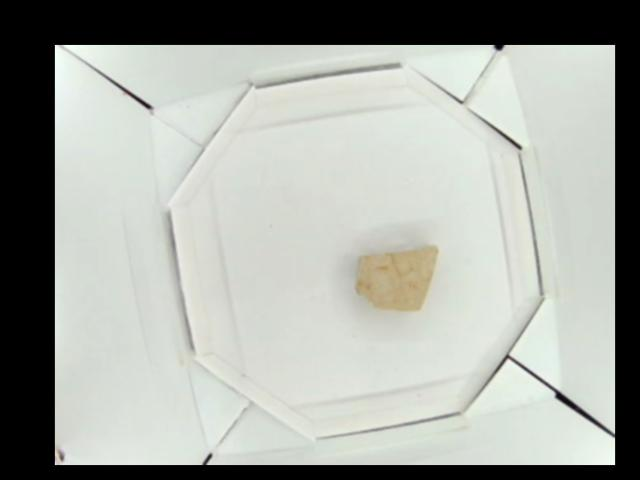China: (358, 244, 440, 312)
